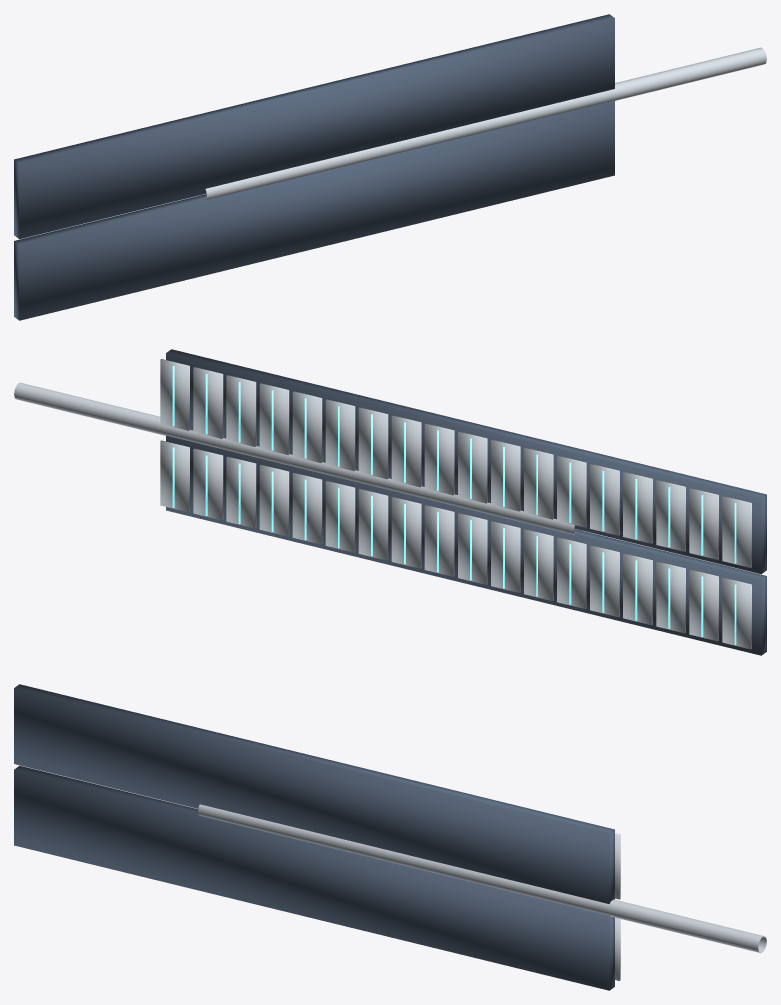
File: L85_08_StationThermalRadiatorWing_Fitted.fbx
3 views of the same model, one above another, from view 1: azimuth 30°, elevation 25°; view 2: azimuth 150°, elevation 25°; view 3: azimuth 330°, elevation 25° (orthographic).
Visible parts, largest first — view 1: L85_StationThermalRadiatorWing_ANIM_RADIATOR_DEPLOY__tint1A2, L85_StationThermalRadiatorWing_ANIM_RADIATOR_DEPLOY__tintA8B; view 2: L85_StationThermalRadiatorWing_ANIM_RADIATOR_DEPLOY__tintA8B, L85_StationThermalRadiatorWing_ANIM_RADIATOR_DEPLOY__tint1A2, L85_StationThermalRadiatorWing_ANIM_RADIATOR_DEPLOY__tint2ED; view 3: L85_StationThermalRadiatorWing_ANIM_RADIATOR_DEPLOY__tint1A2, L85_StationThermalRadiatorWing_ANIM_RADIATOR_DEPLOY__tintA8B.
Boxes of the visible parts, x1,y1,x2,y2 form: L85_StationThermalRadiatorWing_ANIM_RADIATOR_DEPLOY__tint1A2: (14, 14, 614, 320); L85_StationThermalRadiatorWing_ANIM_RADIATOR_DEPLOY__tintA8B: (199, 47, 766, 200); L85_StationThermalRadiatorWing_ANIM_RADIATOR_DEPLOY__tintA8B: (14, 359, 751, 649); L85_StationThermalRadiatorWing_ANIM_RADIATOR_DEPLOY__tint1A2: (166, 349, 766, 655); L85_StationThermalRadiatorWing_ANIM_RADIATOR_DEPLOY__tint2ED: (172, 366, 736, 645); L85_StationThermalRadiatorWing_ANIM_RADIATOR_DEPLOY__tint1A2: (14, 684, 614, 990); L85_StationThermalRadiatorWing_ANIM_RADIATOR_DEPLOY__tintA8B: (198, 804, 766, 980).
Size of the model in its own units: 52.42 by 10.56 by 1.32.
